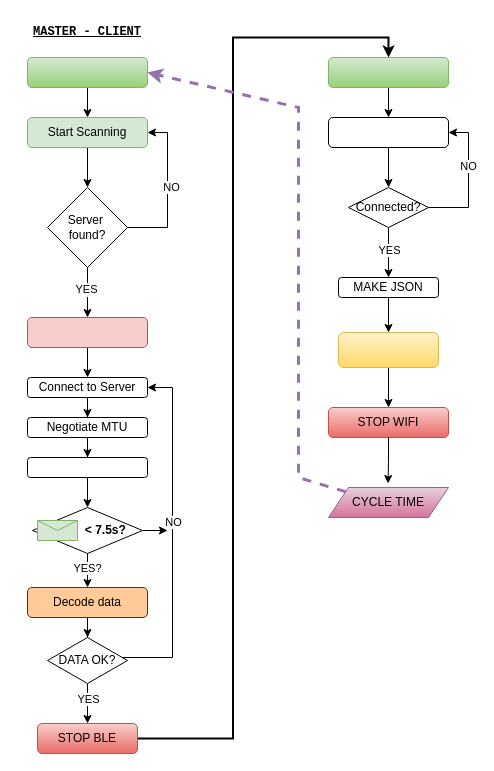
The diagram is 494 pixels wide and 771 high, and some of its shapes have lost their labels. Each missing label, with the box of its shape:
Activate Notify: (26, 456, 148, 478)
CONNECT TO NETWORK: (328, 116, 448, 148)
MAKE POST REQUEST: (338, 332, 438, 368)
START BLE: (26, 56, 148, 88)
START WIFI: (328, 56, 448, 88)
Stop Scanning: (26, 316, 148, 348)
